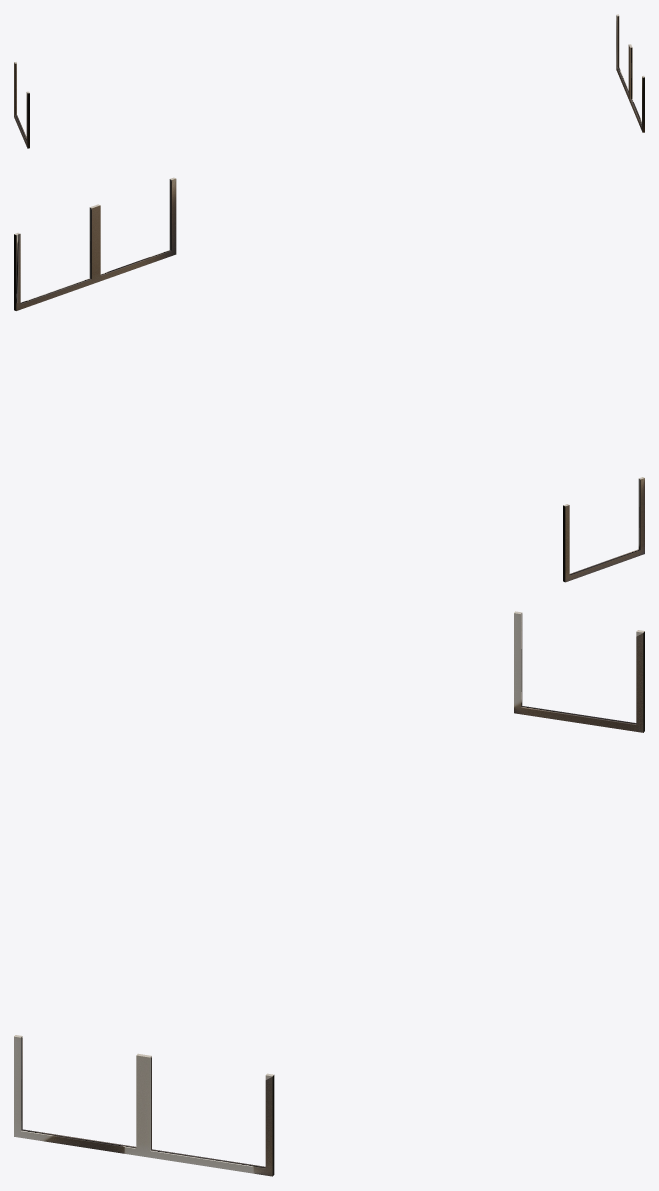
Rendered from Building_05_L03_Frames.fbx.
3 views of the same model, one above another, from view 1: azimuth 30°, elevation 25°; view 2: azimuth 150°, elevation 25°; view 3: azimuth 270°, elevation 25° (orthographic). The views are drawn at different scales.
Parts seen in each view (by area): view 1: Building_05_L03_Frames; view 2: Building_05_L03_Frames; view 3: Building_05_L03_Frames.
Part boxes in pixels (x1,y1,x2,y2): Building_05_L03_Frames: [14, 14, 644, 148]; Building_05_L03_Frames: [14, 177, 644, 582]; Building_05_L03_Frames: [14, 611, 644, 1176].
Bounding box in the file's own units: 14.78 × 1.48 × 8.48.
Materials: 1 (1 with a texture image).
